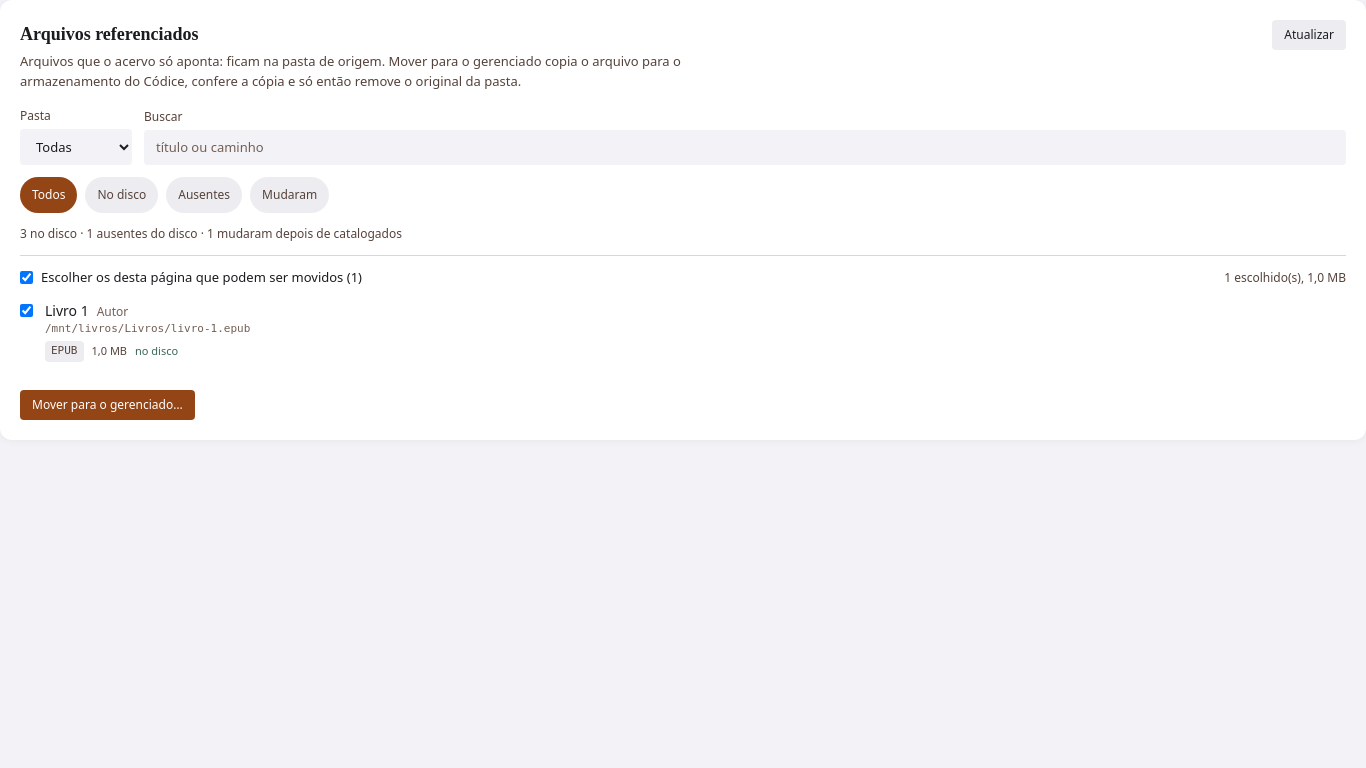
Scenario: ReferencedFiles: moving to the managed storage › reports a file that did not enter the queue with its reason and no job to follow
Click the button "Mover para o gerenciado…": {"x": 107, "y": 404} [20,390,195,420]
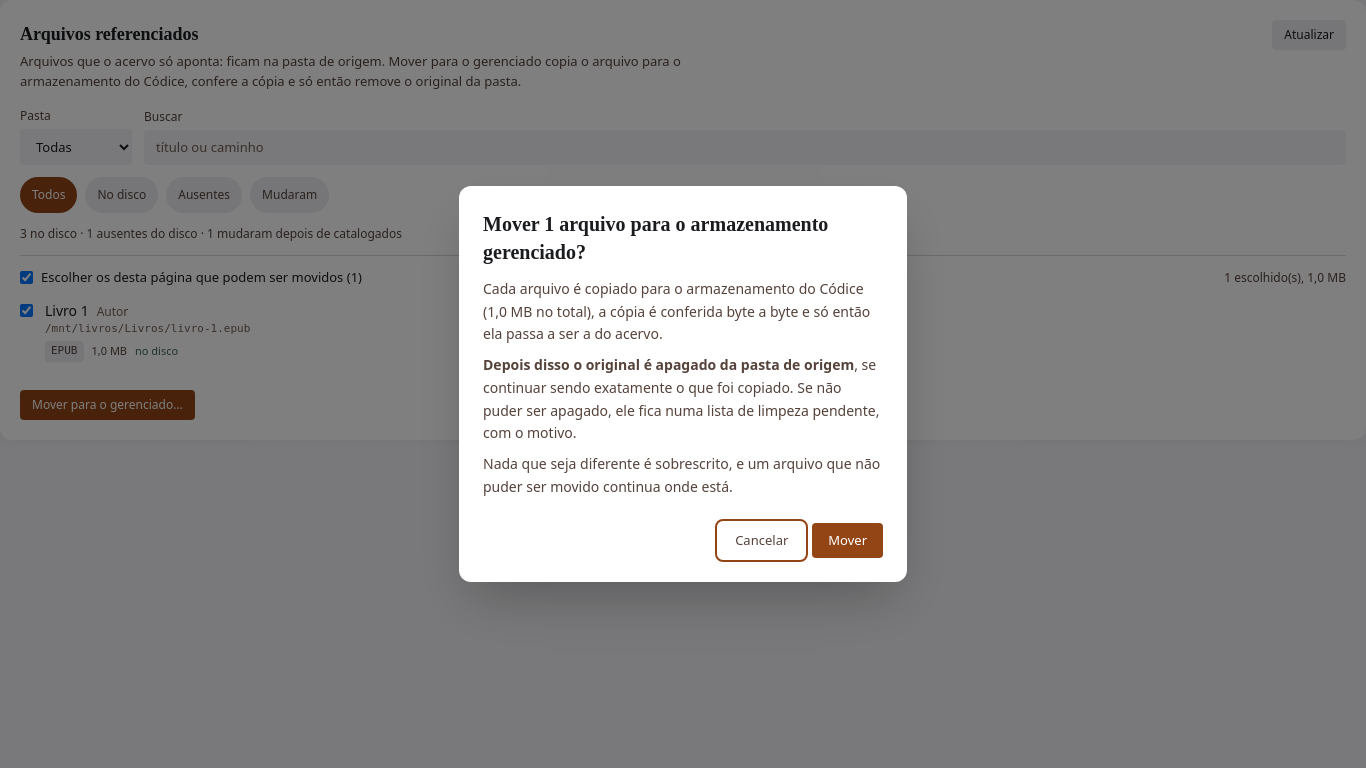
Click the button "Mover": {"x": 848, "y": 540} [812,523,883,558]
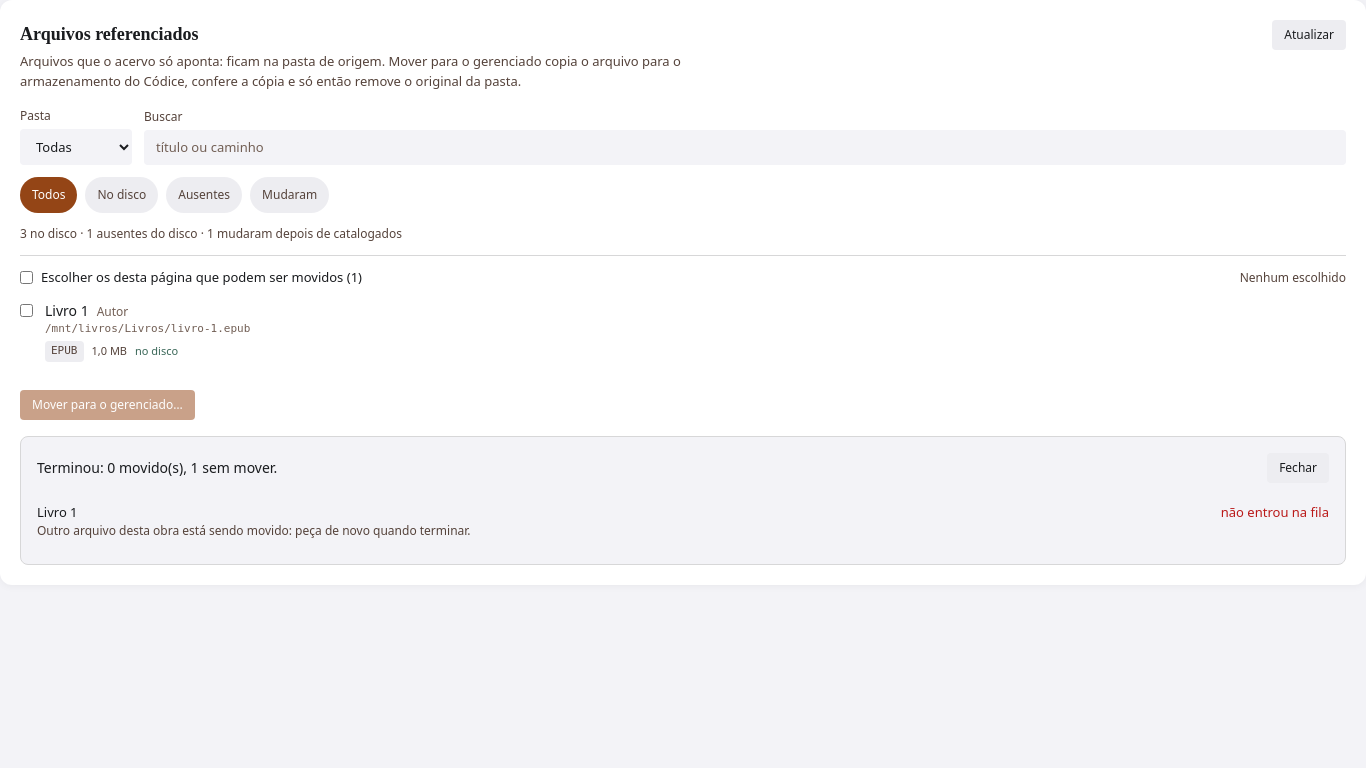
Check: the element named "Resultado da transferência" shows "Outro arquivo desta obra está sendo movido", box [37,522,470,539]
